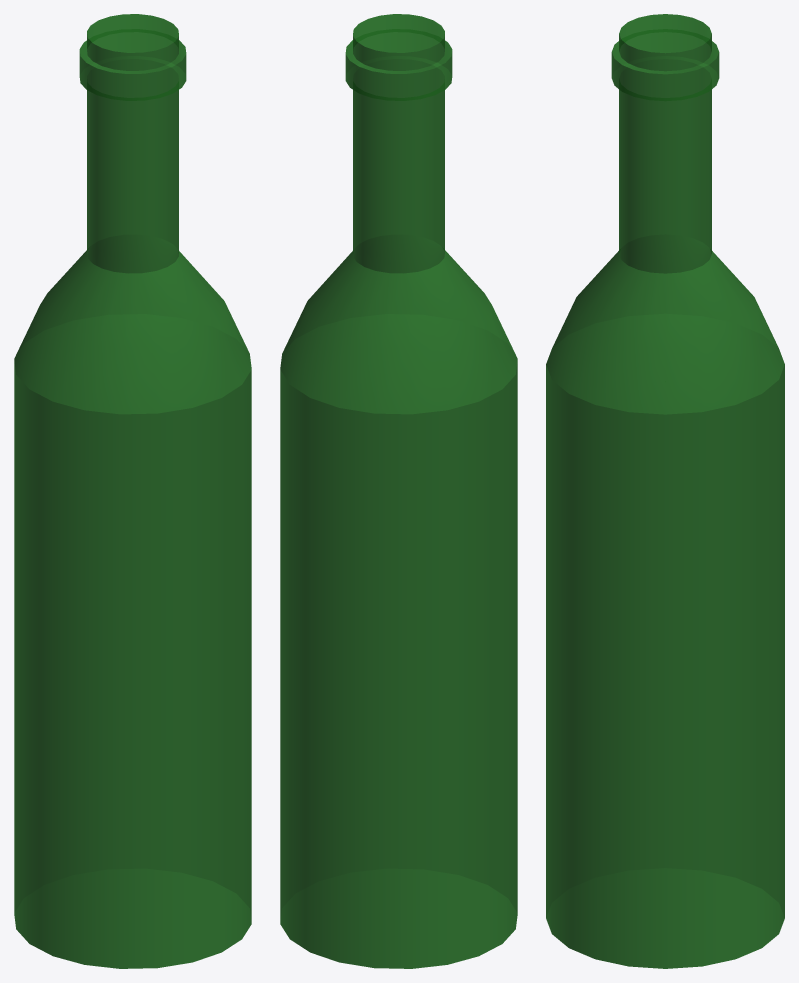
File: Bottle.fbx
3 views of the same model, side by side, from view 1: azimuth 30°, elevation 25°; view 2: azimuth 150°, elevation 25°; view 3: azimuth 270°, elevation 25° (orthographic).
Parts seen in each view (by area): view 1: pCylinder1; view 2: pCylinder1; view 3: pCylinder1.
Part boxes in pixels (bbox=[...]): pCylinder1: bbox=[14, 14, 251, 968]; pCylinder1: bbox=[280, 14, 517, 968]; pCylinder1: bbox=[546, 14, 784, 968].
Bounding box in the file's own units: 1.66 × 6.77 × 1.66.
